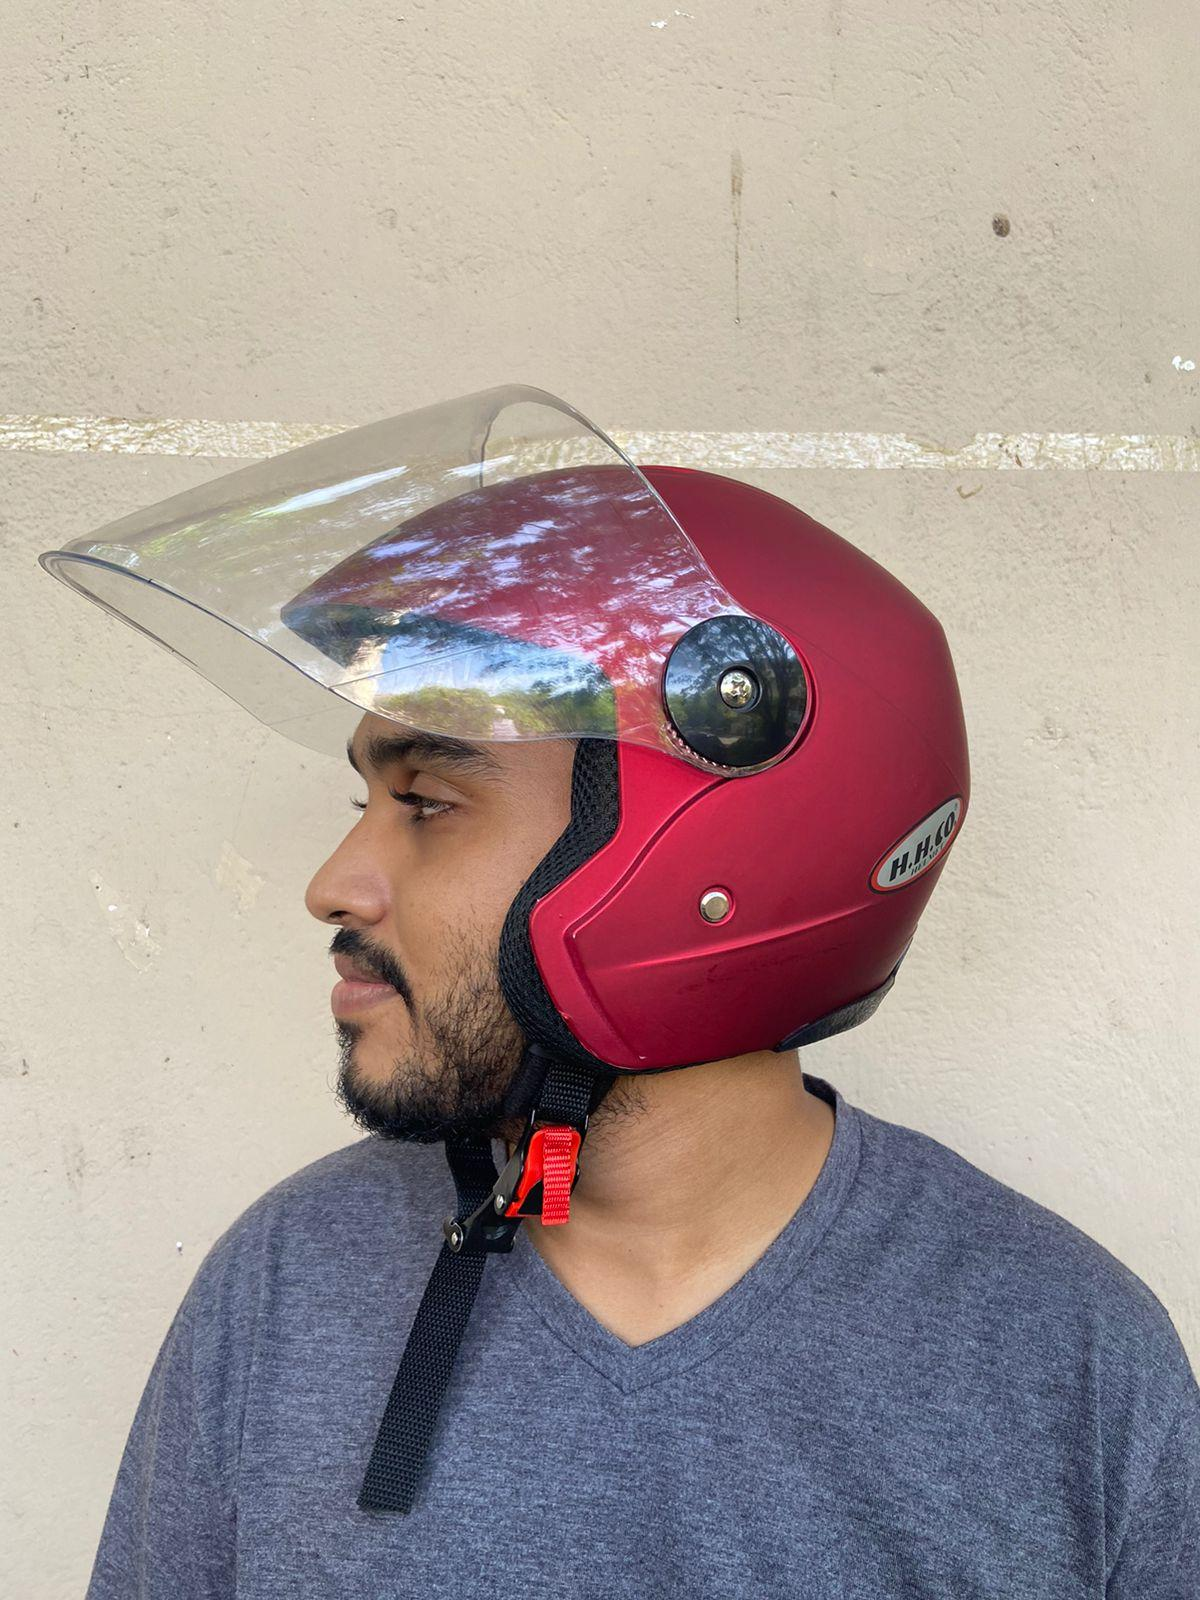helmet: (34, 379, 971, 1073)
